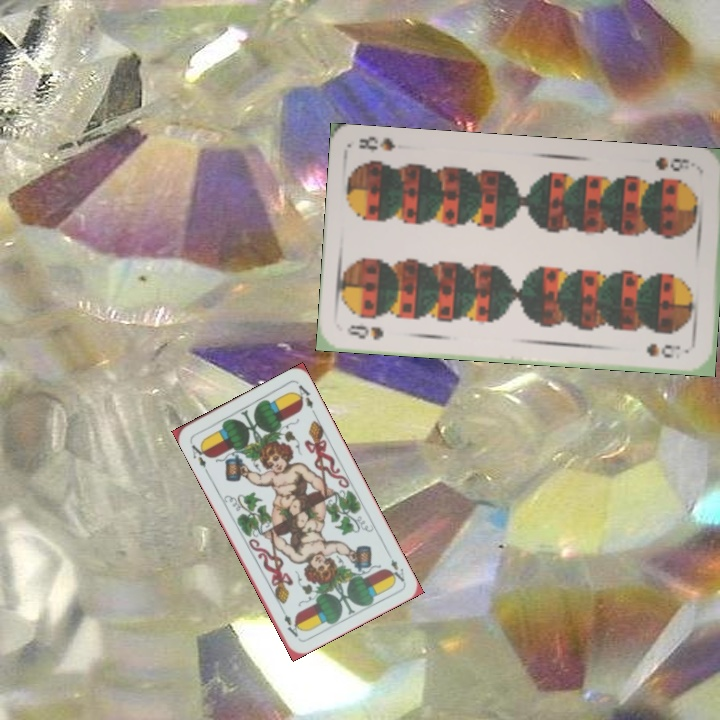EA: (383, 547, 407, 585), (186, 438, 212, 470)
S8: (343, 320, 386, 342), (651, 152, 692, 174)
